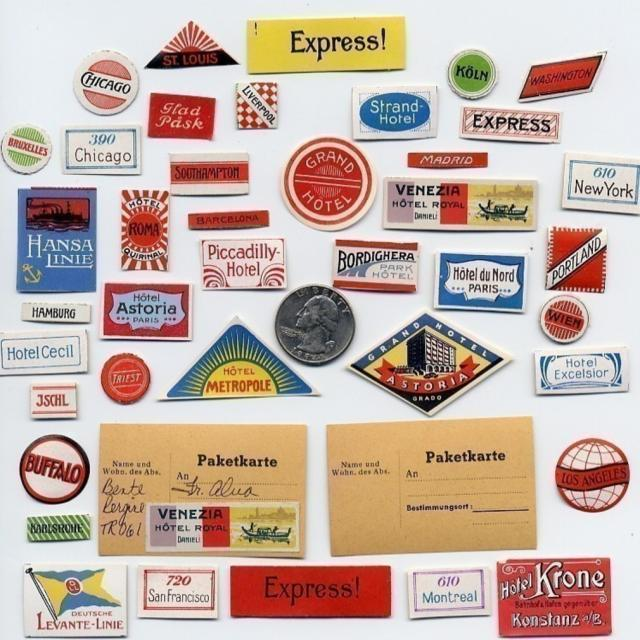Coin: (271, 282, 356, 367)
